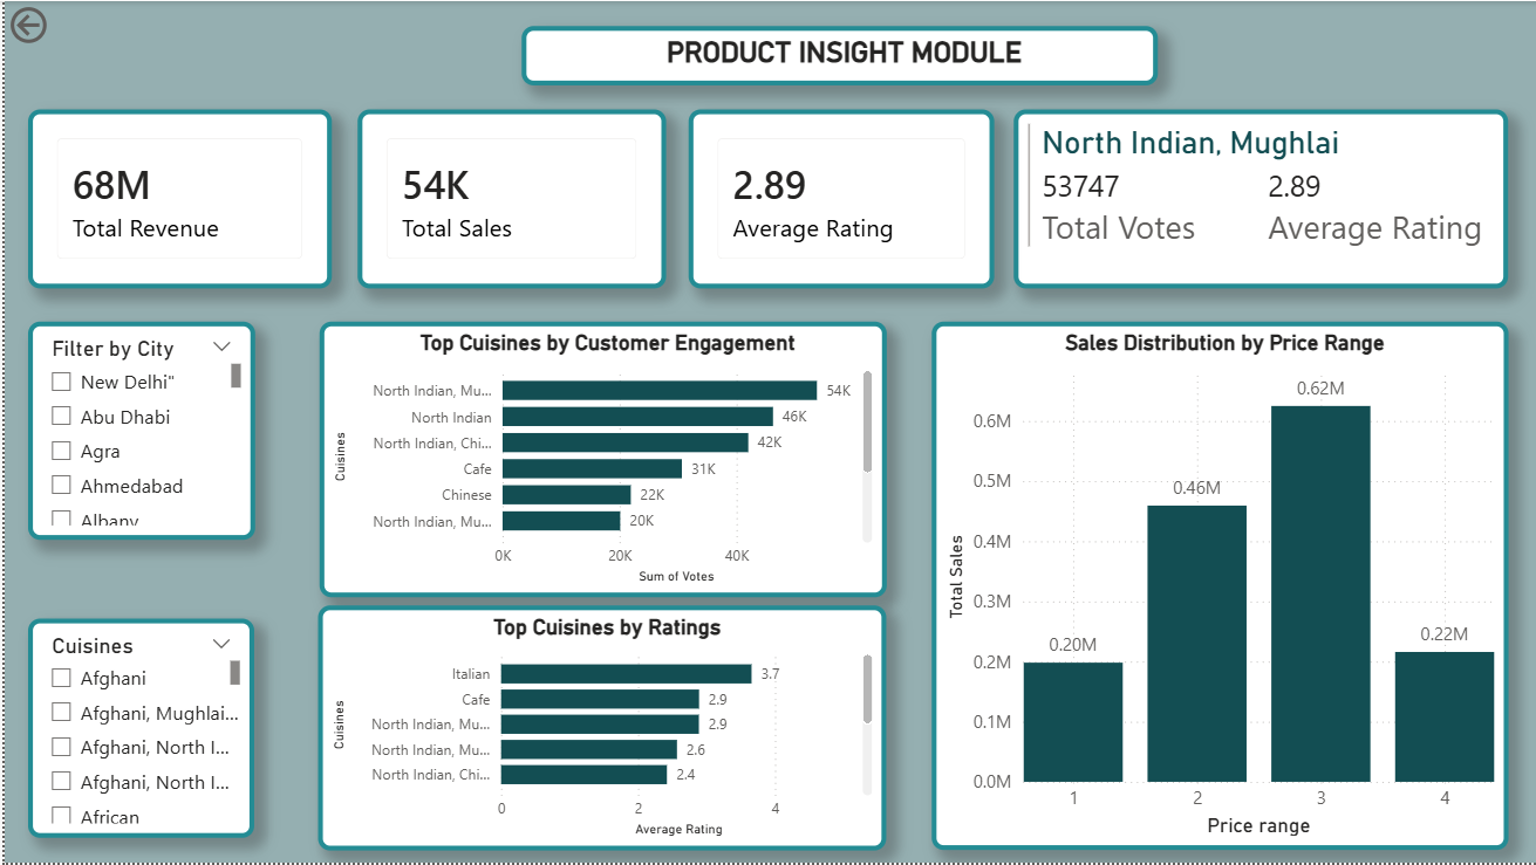

This screenshot's page, from the dashboard's own definition file:
{"tool":"powerbi","page":{"name":"Page 3","canvas":[1280,720],"ordinal":2},"visuals":[{"type":"actionButton","box":[0,0,100,40],"z":0},{"type":"clusteredBarChart","title":"Top Cuisines by Customer Engagement","fields":{"Category":["zomato.Cuisines"],"Y":["Sum(zomato.Votes)"]},"box":[263.5,267.6,473.4,230.5],"z":1000},{"type":"multiRowCard","fields":{"Values":["zomato.Cuisines","zomato.Total Votes","zomato.Average Rating"]},"box":[842.5,90.6,413,149.6],"z":2000},{"type":"slicer","fields":{"Values":["zomato.City"]},"box":[19.2,267.6,189.4,182.5],"z":3000},{"type":"cardVisual","title":"TOTAL REVENUE","fields":{"Data":["zomato.Total Revenue"]},"box":[19.2,90.6,253.9,149.6],"z":4000},{"type":"cardVisual","fields":{"Data":["zomato.Total Sales"]},"box":[295,90.6,258,149.6],"z":5000},{"type":"cardVisual","fields":{"Data":["zomato.Average Rating"]},"box":[570.8,90.6,255.2,149.6],"z":6000},{"type":"clusteredColumnChart","title":"Sales Distribution by Price Range","fields":{"Category":["zomato.Price range"],"Y":["zomato.Total Sales"]},"box":[773.9,267.6,481.6,441.9],"z":7000},{"type":"clusteredBarChart","title":"Top Cuisines by Ratings","fields":{"Category":["zomato.Cuisines"],"Y":["zomato.Average Rating"]},"box":[262.1,505,474.8,204.5],"z":8000},{"type":"slicer","fields":{"Values":["zomato.Cuisines"]},"box":[19,516,189,183],"z":9000},{"type":"textbox","title":"PRODUCT INSIGHT MODULE","box":[432.2,20.6,531,49.4],"z":10000}]}

Visuals, with their boxes in screenshot pixels (x1, y1, x2, y2), scaled from the page's 1280x720 canvas onto the 1536x865 screenshot:
actionButton: l=0, t=0, r=120, b=48
"Top Cuisines by Customer Engagement" clusteredBarChart: l=316, t=321, r=884, b=598
multiRowCard - zomato.Cuisines x zomato.Total Votes: l=1011, t=109, r=1507, b=289
slicer - zomato.City: l=23, t=321, r=250, b=541
"TOTAL REVENUE" cardVisual: l=23, t=109, r=328, b=289
cardVisual - zomato.Total Sales: l=354, t=109, r=664, b=289
cardVisual - zomato.Average Rating: l=685, t=109, r=991, b=289
"Sales Distribution by Price Range" clusteredColumnChart: l=929, t=321, r=1507, b=852
"Top Cuisines by Ratings" clusteredBarChart: l=315, t=607, r=884, b=852
slicer - zomato.Cuisines: l=23, t=620, r=250, b=840
"PRODUCT INSIGHT MODULE" textbox: l=519, t=25, r=1156, b=84
